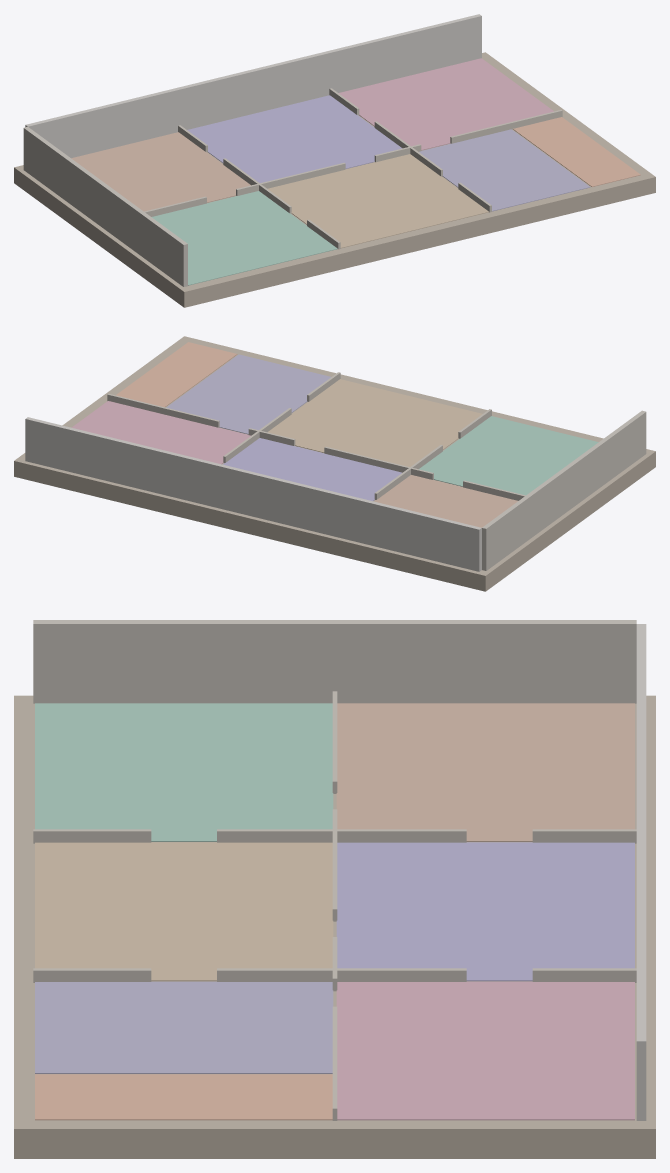
File: shell.glb
3 renders of one model, top to bottom at view 1: azimuth 30°, elevation 25°; view 2: azimuth 150°, elevation 25°; view 3: azimuth 270°, elevation 25°, orthographic. The views are drawn at different scales.
Visible parts, largest first — view 1: shell; view 2: shell; view 3: shell.
Part boxes in pixels (left/top/right/bottom): shell: left=14, top=14, right=655, bottom=307; shell: left=14, top=336, right=655, bottom=591; shell: left=14, top=620, right=655, bottom=1158.
Size of the model in its own units: 37.4 by 4.4 by 23.4.
